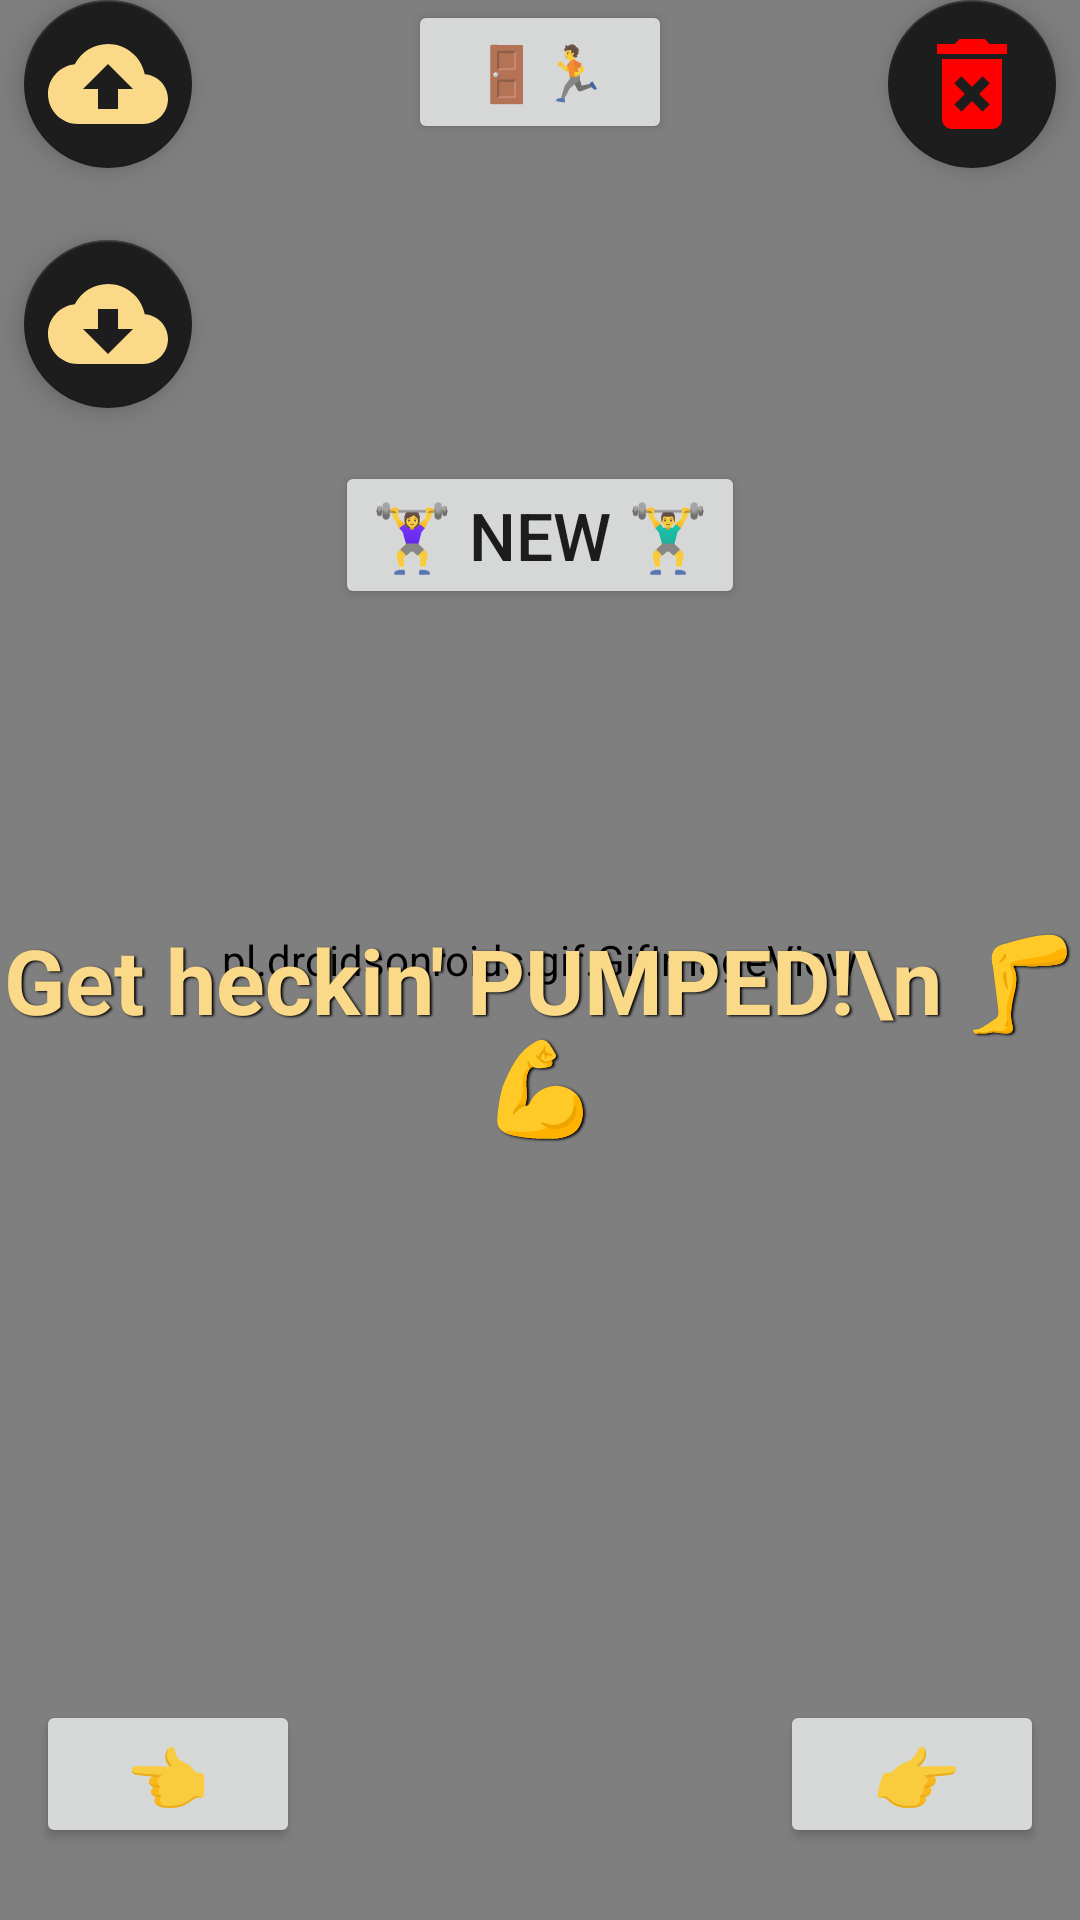

Icons on this 1080x1920 Android screen, each with the point to tap as (x=x, y=y):
cloud download: (x=108, y=324)
cloud upload: (x=108, y=84)
delete forever: (x=972, y=84)
